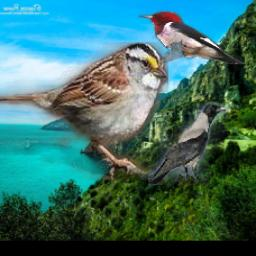Crow: (148, 103, 229, 185)
Sparrow: (0, 42, 167, 180)
Woodpecker: (136, 11, 249, 65)
